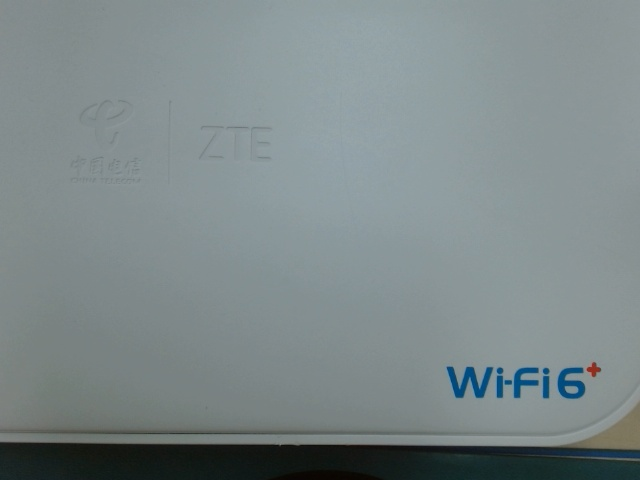AJ_ZTEWIFI6Plus: (437, 355, 603, 409)
